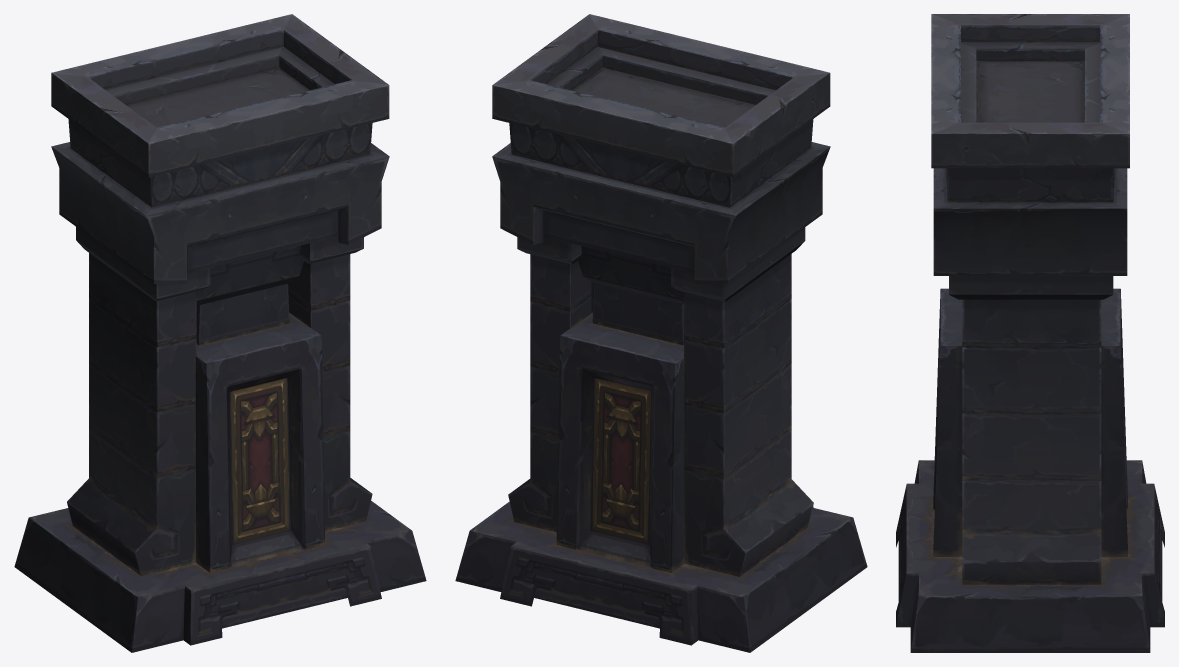
The model's file is fb_csd_zj_21.FBX.
3 views of the same model, side by side, from view 1: azimuth 30°, elevation 25°; view 2: azimuth 150°, elevation 25°; view 3: azimuth 270°, elevation 25° (orthographic). The views are drawn at different scales.
Visible parts, largest first — view 1: fb_csd_zj_21; view 2: fb_csd_zj_21; view 3: fb_csd_zj_21.
Part boxes in pixels (box(x1,y1,x2,y2)): fb_csd_zj_21: box(14, 14, 426, 652); fb_csd_zj_21: box(455, 14, 867, 652); fb_csd_zj_21: box(896, 14, 1164, 652).
Bounding box in the file's own units: 255 × 408 × 197.
